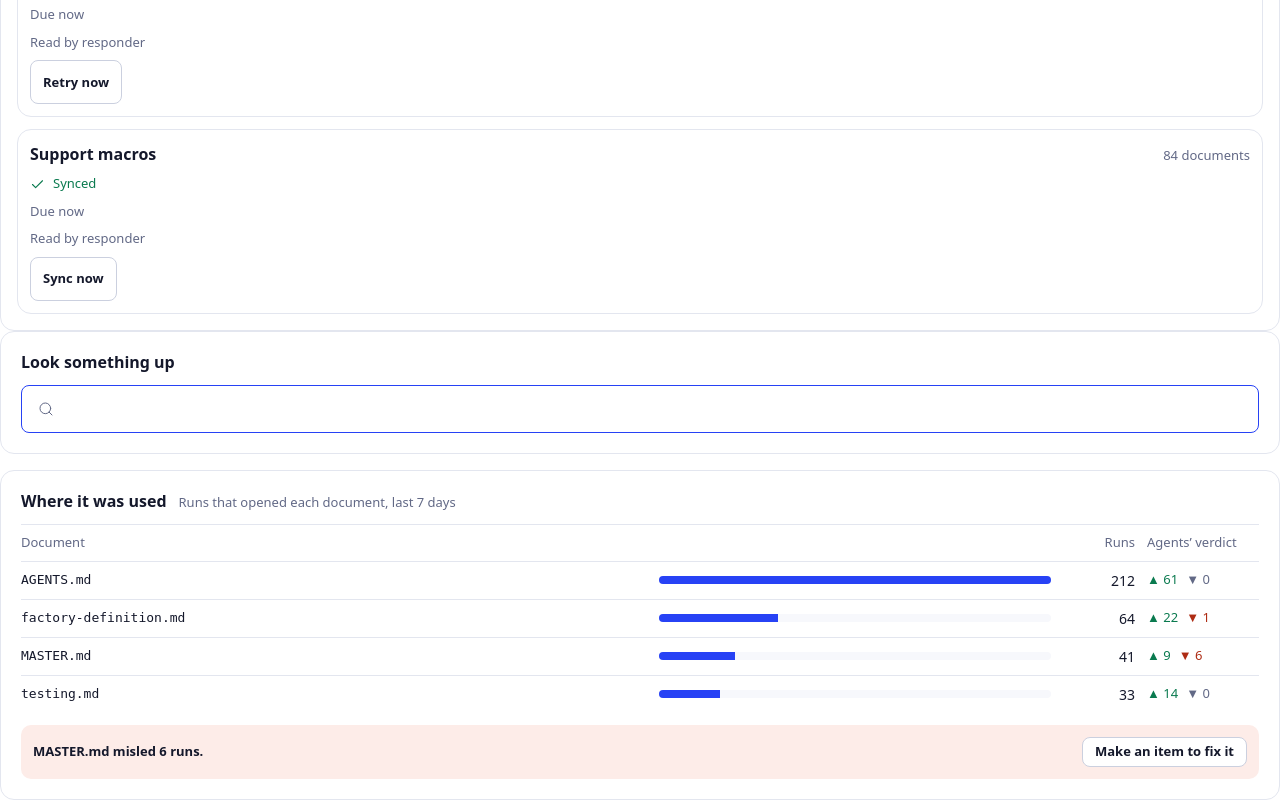
Scenario: the Knowledge page › opens the composer with the misled document as its title, for a factory that may add items
(page scrolled)
Click the button "Make an item to fix it".
click(1164, 752)  # box [1082, 737, 1247, 767]
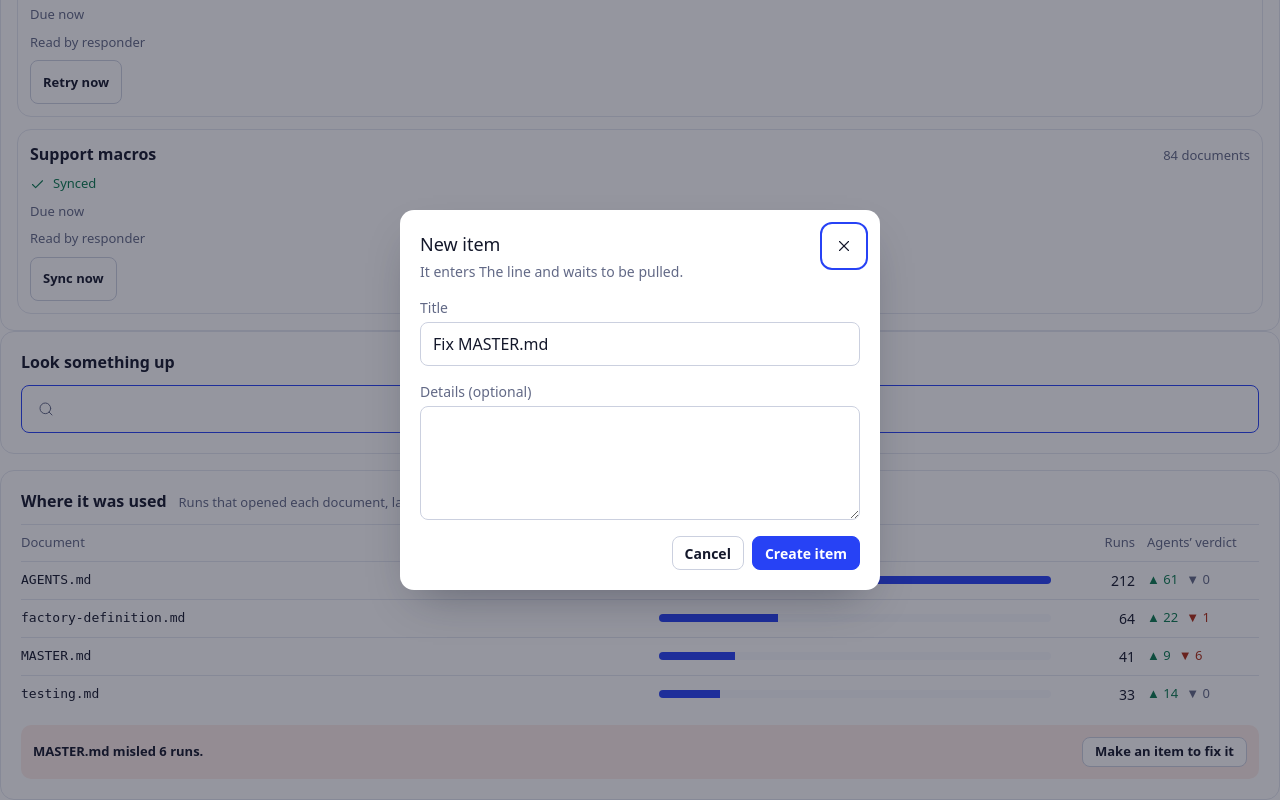
Now the field labelled "Title" holds "Fix MASTER.md", box [420, 322, 860, 366]
